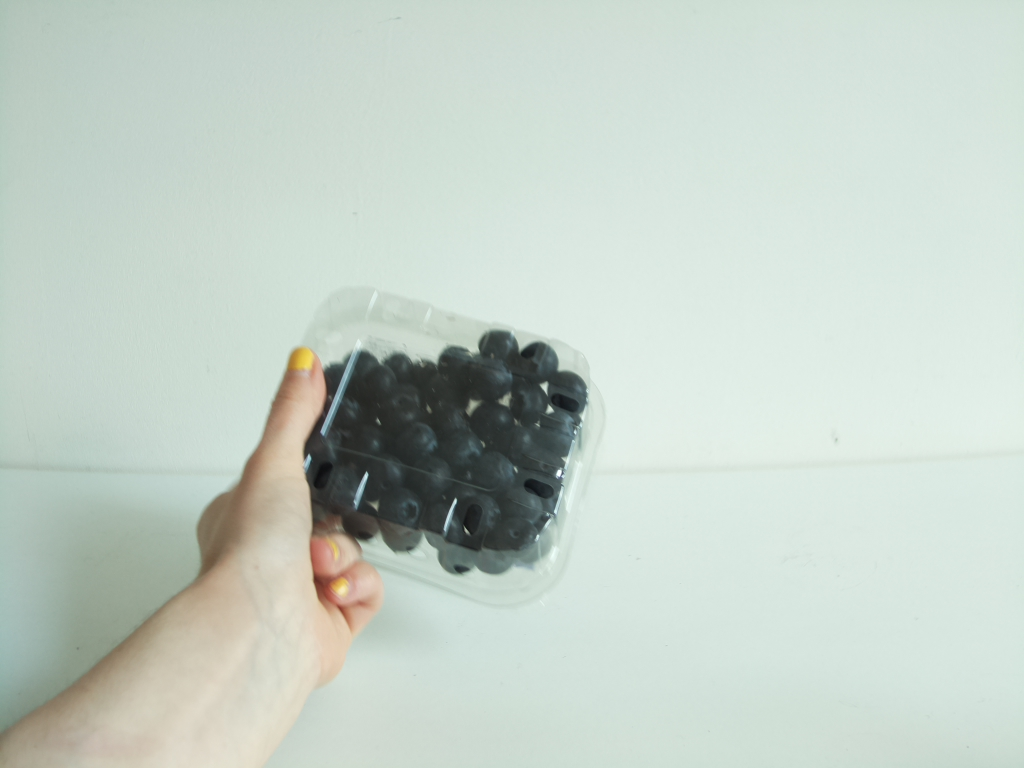soft-fruit: (294, 294, 598, 601)
